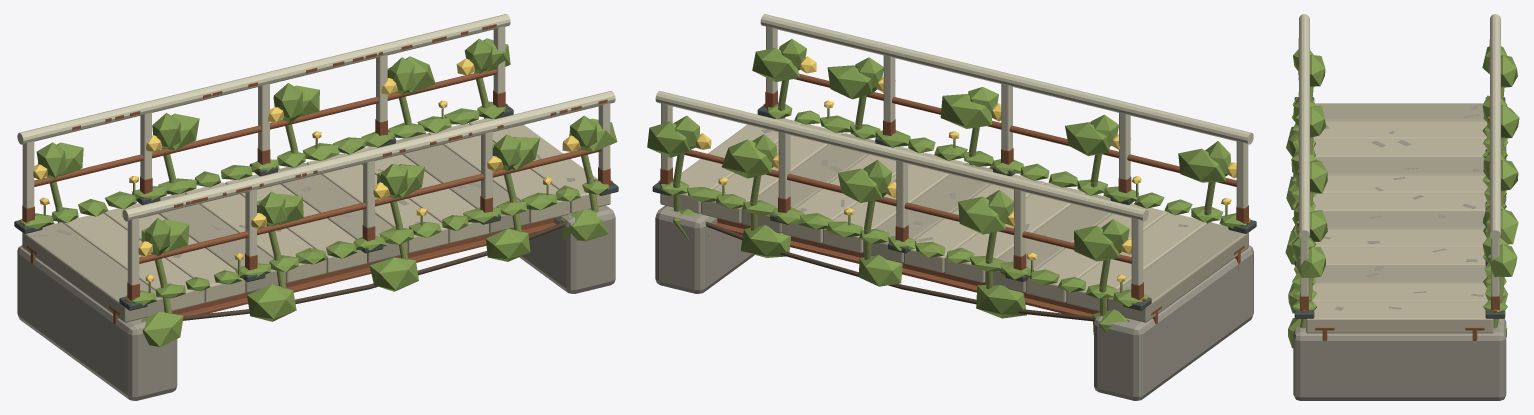
File: Small_Bridge_Greened.glb
3 renders of one model, left to right at view 1: azimuth 30°, elevation 25°; view 2: azimuth 150°, elevation 25°; view 3: azimuth 270°, elevation 25°, orthographic. The views are drawn at different scales.
Parts seen in each view (by area): view 1: Structure, Growth; view 2: Structure, Growth; view 3: Structure, Growth.
Part boxes in pixels (box(x1,y1,x2,y2)): Structure: box(14, 14, 618, 400); Growth: box(20, 38, 617, 347); Structure: box(652, 14, 1256, 400); Growth: box(647, 39, 1250, 334); Structure: box(1293, 14, 1506, 400); Growth: box(1285, 46, 1519, 348).
Bounding box in the file's own units: 6.08 × 2.25 × 2.74.
